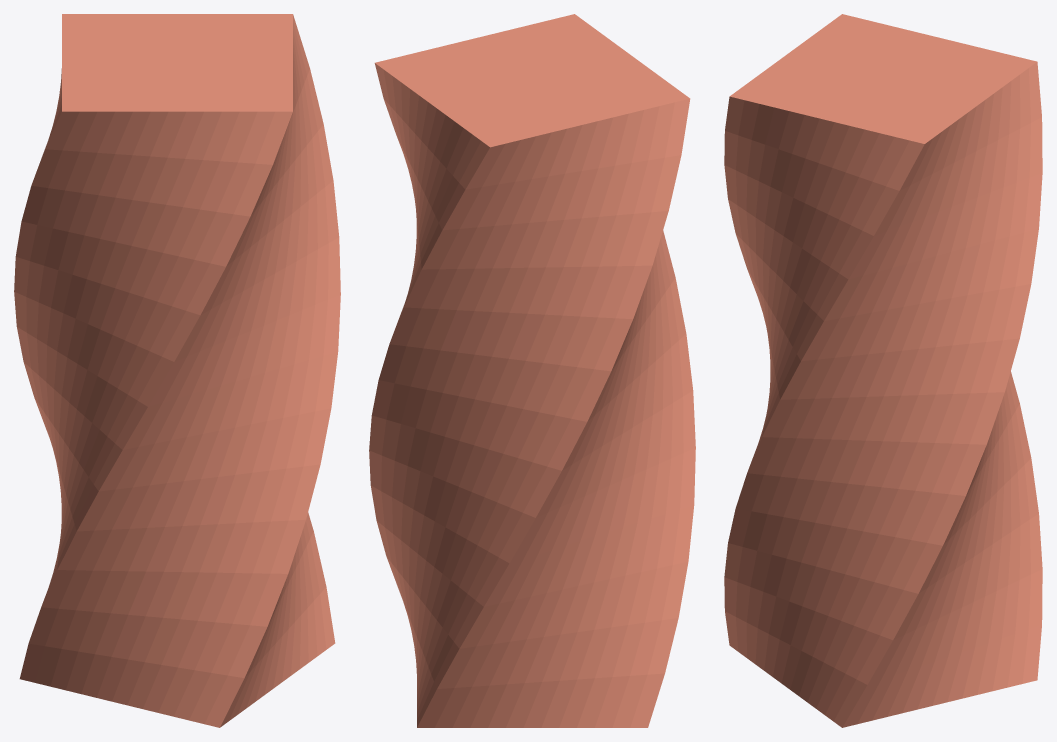
Rendered from twisted_tower.glb.
3 renders of one model, left to right at view 1: azimuth 30°, elevation 25°; view 2: azimuth 150°, elevation 25°; view 3: azimuth 270°, elevation 25°, orthographic. The views are drawn at different scales.
Parts seen in each view (by area): view 1: twisted_tower.001; view 2: twisted_tower.001; view 3: twisted_tower.001.
Boxes of the visible parts, <box> form: twisted_tower.001: <box>14,14,340,727</box>; twisted_tower.001: <box>369,14,695,727</box>; twisted_tower.001: <box>724,14,1042,727</box>.
Bounding box in the file's own units: 0.3459 × 0.7 × 0.3459.
